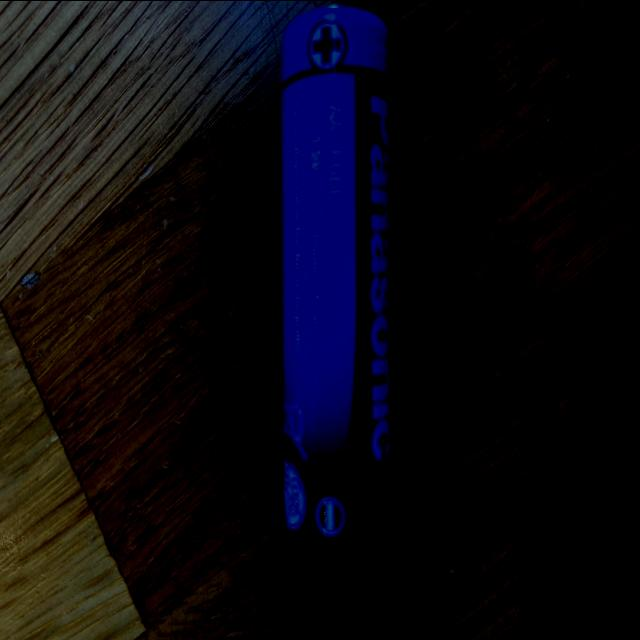AA: (279, 3, 398, 566)
